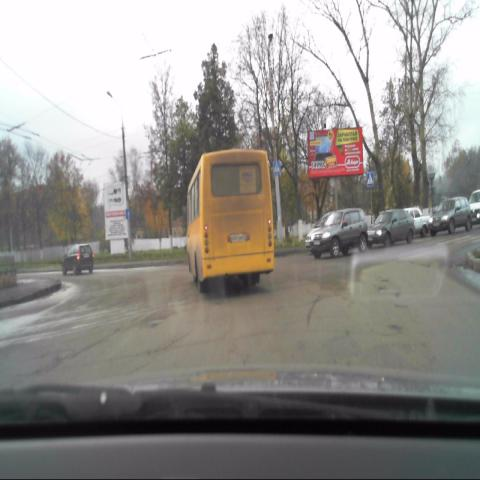5_19_1: (273, 160, 282, 176), (365, 172, 373, 187)
